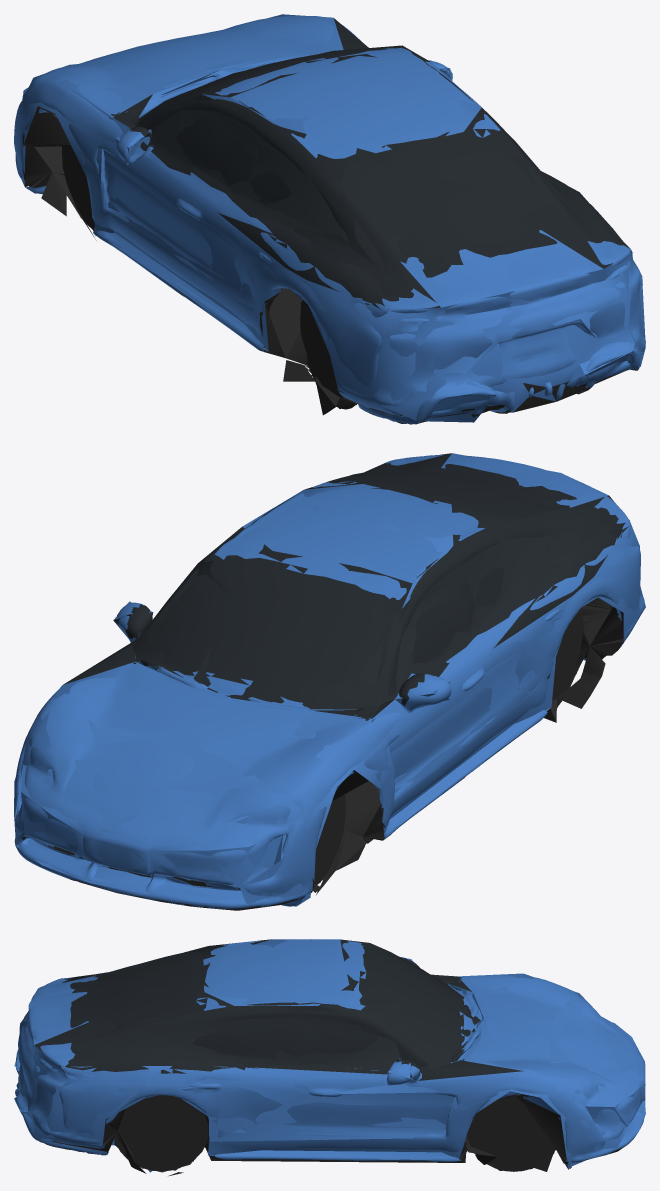
File: porsche-taycan.glb
3 renders of one model, top to bottom at view 1: azimuth 30°, elevation 25°; view 2: azimuth 150°, elevation 25°; view 3: azimuth 270°, elevation 25°, orthographic. The views are drawn at different scales.
Visible parts, largest first — view 1: body, far; view 2: body, far; view 3: body, far.
Part boxes in pixels (left/top/right/bottom): body: left=14, top=16, right=645, bottom=424; far: left=16, top=14, right=645, bottom=422; body: left=14, top=455, right=644, bottom=910; far: left=14, top=453, right=645, bottom=906; body: left=15, top=939, right=645, bottom=1176; far: left=14, top=939, right=645, bottom=1173.
Size of the model in its own units: 2.23 by 1.52 by 5.02.
